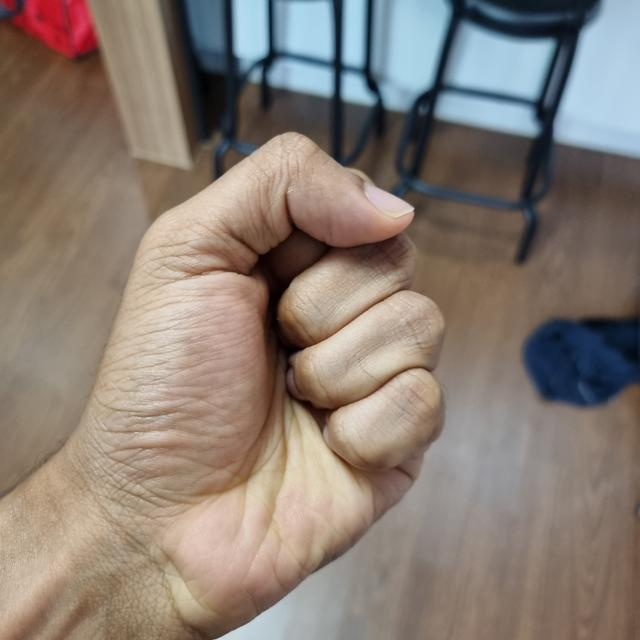Rock: (90, 140, 442, 631)
